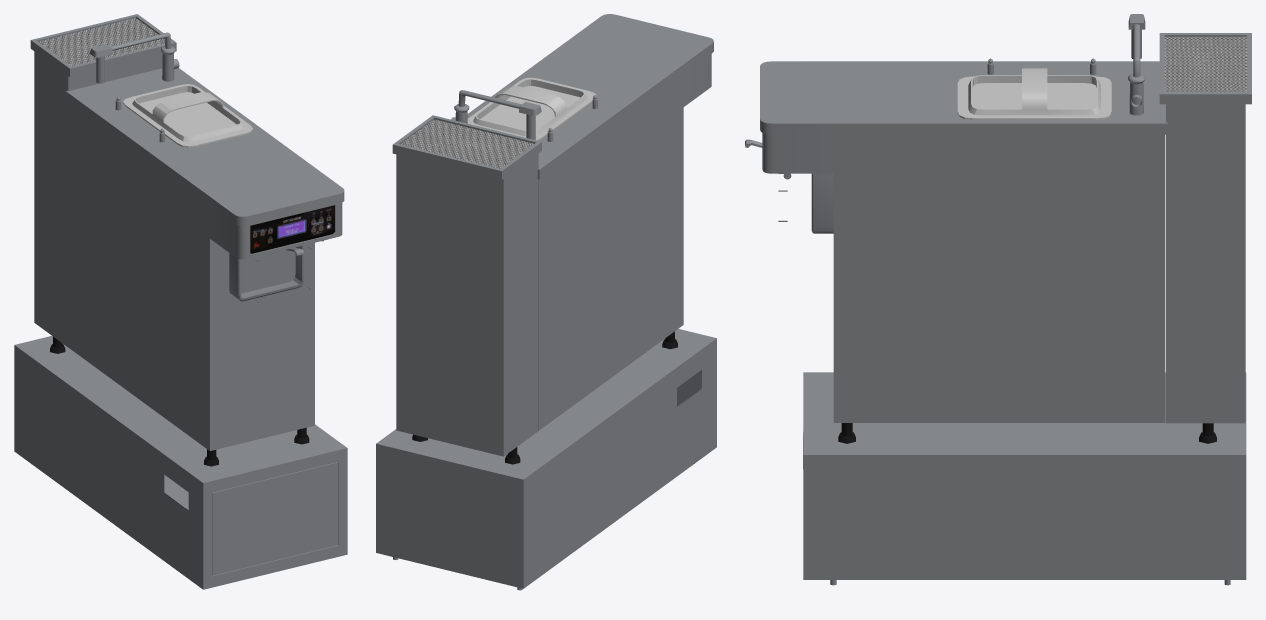
File: LC_3030_ice_cream_machine_LOD3.FBX
3 views of the same model, side by side, from view 1: azimuth 30°, elevation 25°; view 2: azimuth 150°, elevation 25°; view 3: azimuth 270°, elevation 25° (orthographic). The views are drawn at different scales.
Visible parts, largest first — view 1: LC_3030_ice_cream_machine_LOD3, LC_3030_ice_cream_machine_Glass_LOD3; view 2: LC_3030_ice_cream_machine_LOD3, LC_3030_ice_cream_machine_Glass_LOD3; view 3: LC_3030_ice_cream_machine_LOD3, LC_3030_ice_cream_machine_Glass_LOD3.
Part boxes in pixels (box(x1,y1,x2,y2)): LC_3030_ice_cream_machine_LOD3: box(14, 14, 347, 589); LC_3030_ice_cream_machine_Glass_LOD3: box(123, 84, 252, 147); LC_3030_ice_cream_machine_LOD3: box(376, 14, 716, 590); LC_3030_ice_cream_machine_Glass_LOD3: box(467, 77, 596, 140); LC_3030_ice_cream_machine_LOD3: box(745, 14, 1251, 585); LC_3030_ice_cream_machine_Glass_LOD3: box(957, 68, 1111, 119).
Bounding box in the file's own units: 41.35 × 124 × 107.
